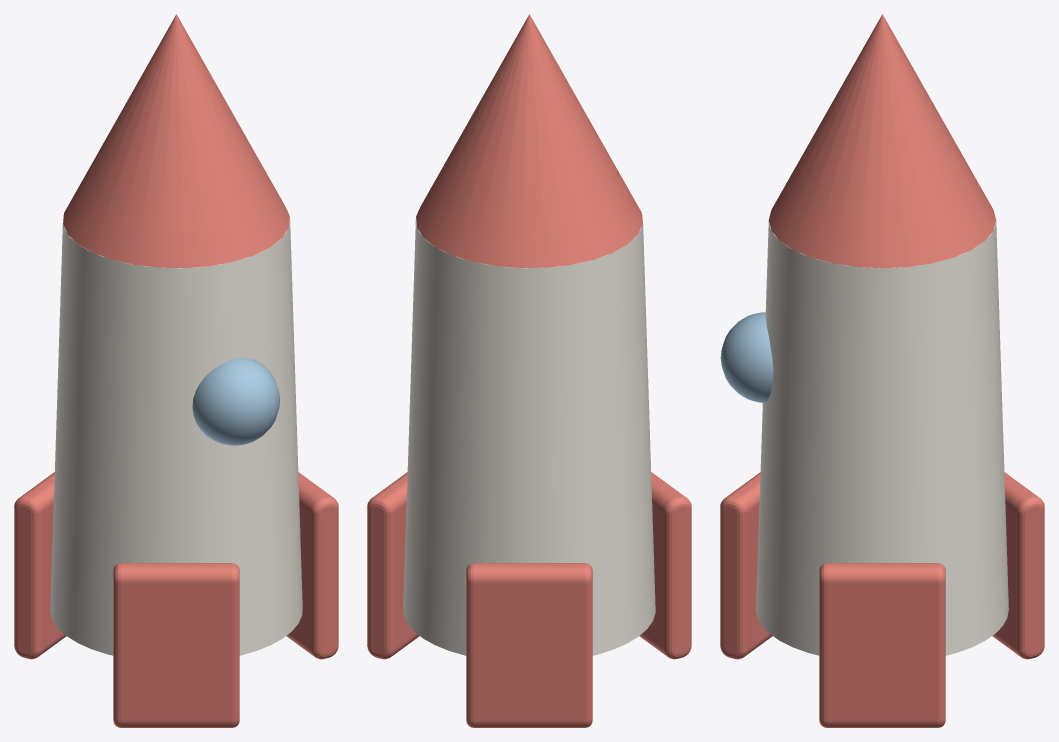
File: rocket.glb
3 renders of one model, left to right at view 1: azimuth 30°, elevation 25°; view 2: azimuth 150°, elevation 25°; view 3: azimuth 270°, elevation 25°, orthographic.
Visible parts, largest first — view 1: rocket; view 2: rocket; view 3: rocket.
Part boxes in pixels (x1,y1,x2,y2): rocket: (14,14,338,727); rocket: (367,14,691,727); rocket: (720,14,1044,727).
Bounding box in the file's own units: 0.112 × 0.285 × 0.1284.
